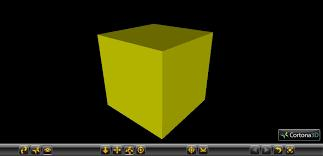cubos: (95, 18, 215, 139)
